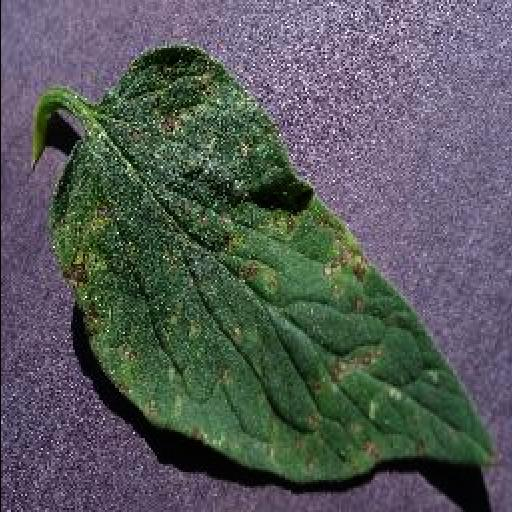disease_tomato: (52, 46, 498, 483)
